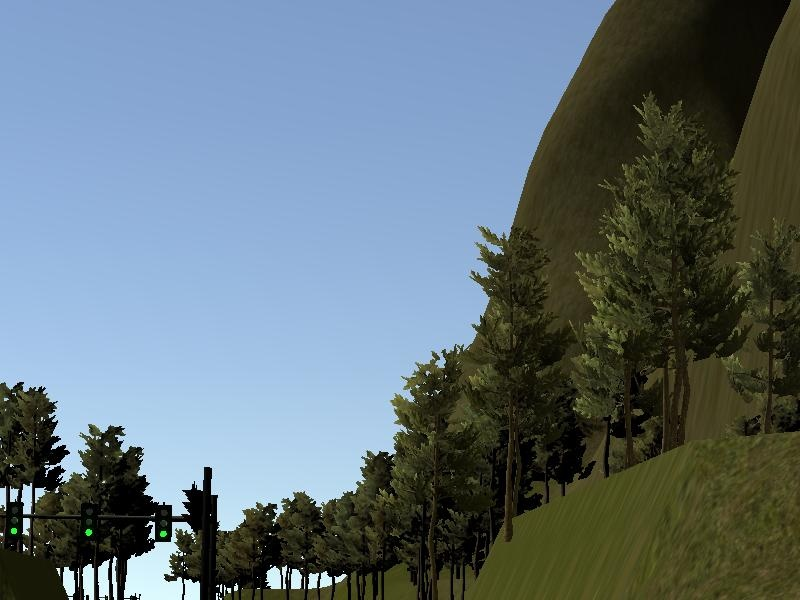GREEN: (6, 501, 25, 538), (155, 506, 172, 543), (80, 506, 97, 542)
